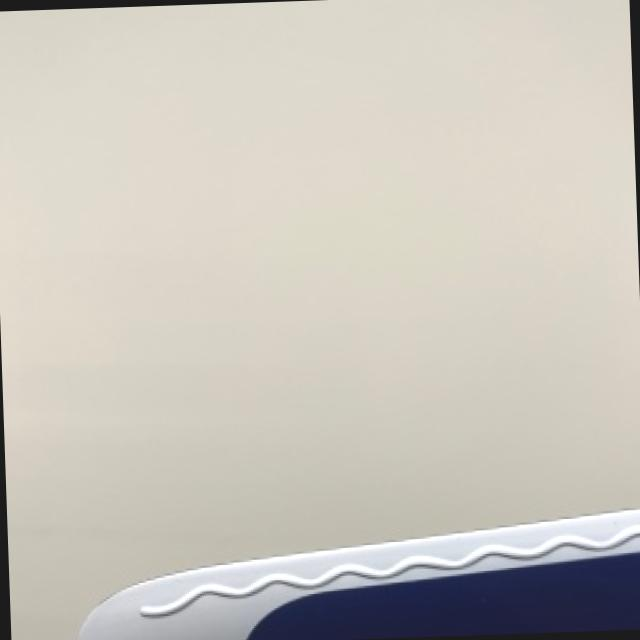healthy: (79, 507, 640, 640)
